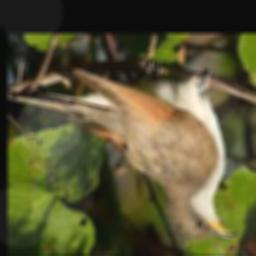Cuckoo: (69, 69, 237, 240)
